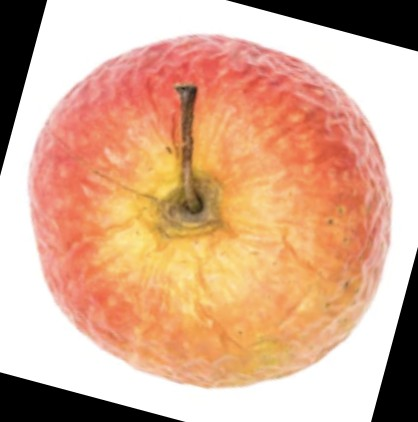rotten_apple: (28, 35, 392, 389)
